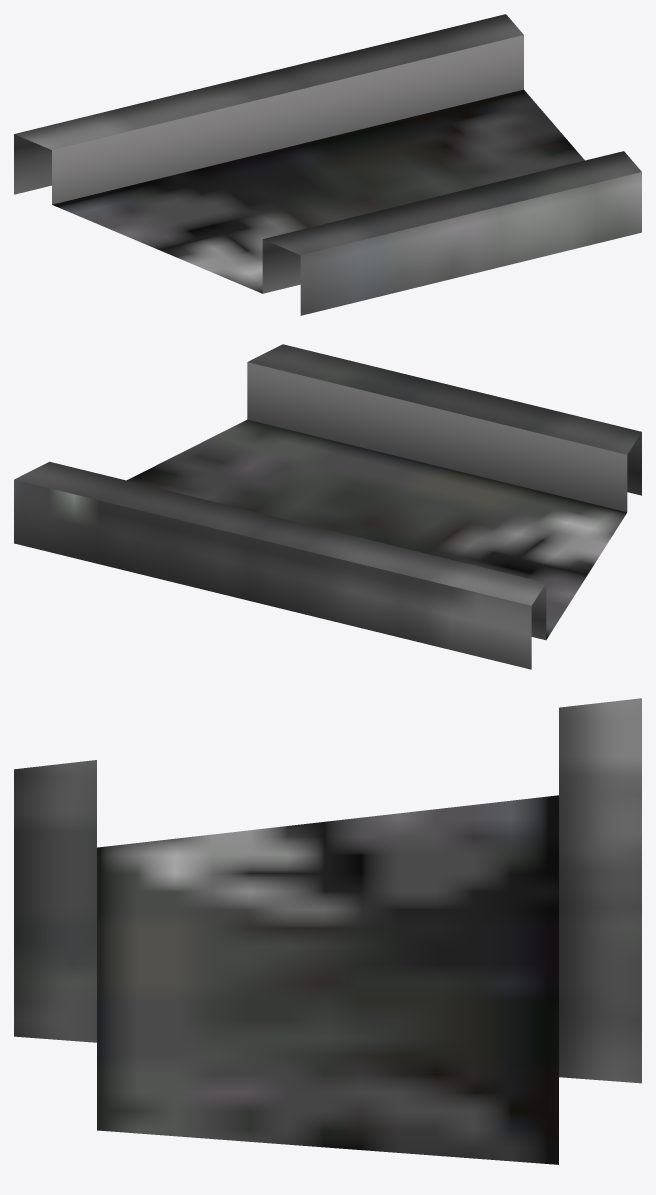
The model's file is Shared - Armor - Tanker Truck - Damage State 30 - CVTanker_d30.glb.
The picture shows the model from 3 angles, top to bottom: view 1: azimuth 30°, elevation 25°; view 2: azimuth 150°, elevation 25°; view 3: azimuth 270°, elevation 25°; orthographic projection. The views are drawn at different scales.
Parts seen in each view (by area): view 1: CVTANKER_D30; view 2: CVTANKER_D30; view 3: CVTANKER_D30.
Boxes of the visible parts, box(x1,y1,x2,y2) form: CVTANKER_D30: box(14, 14, 641, 315); CVTANKER_D30: box(14, 344, 641, 669); CVTANKER_D30: box(14, 698, 641, 1164).
Bounding box in the file's own units: 7.62 × 0.8981 × 5.25.
1 material, 1 textured.
